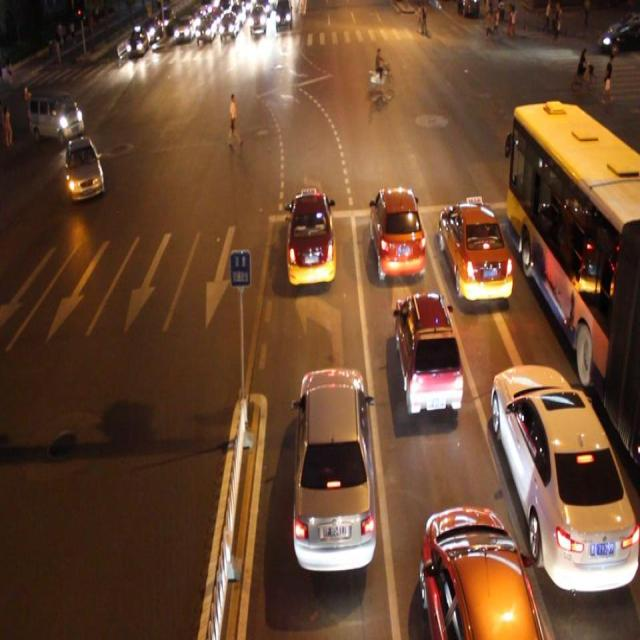car: (488, 364, 640, 594), (293, 362, 376, 574), (419, 505, 542, 640), (393, 292, 460, 416), (437, 200, 512, 310), (368, 183, 426, 279), (285, 186, 336, 288), (27, 86, 85, 140), (64, 134, 104, 201)
van: (506, 102, 640, 456)
